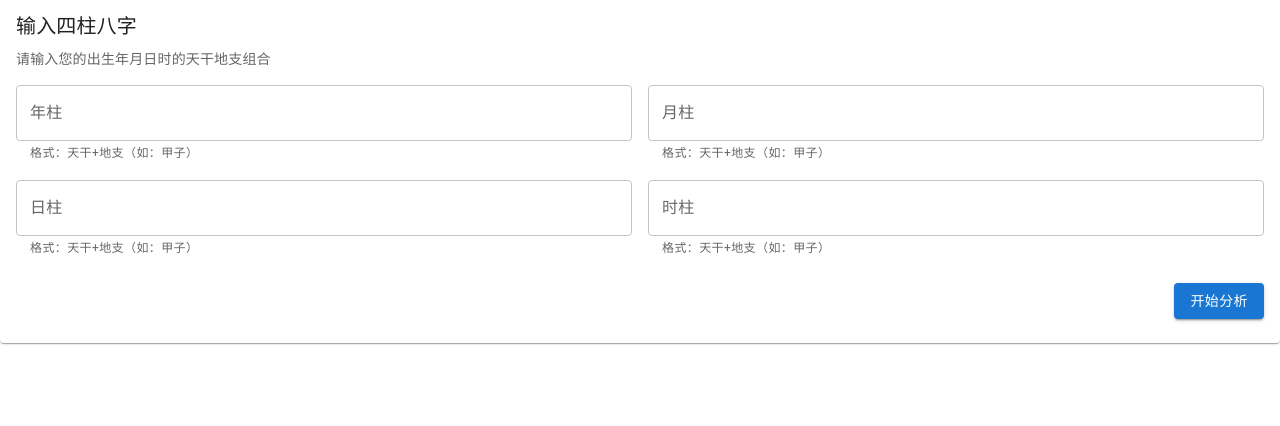
Test: FourPillarsInput › 应该验证输入格式
Type "XX" into the field labelled "年柱" at (324, 113), box x1=16 y1=85 x2=632 y2=141
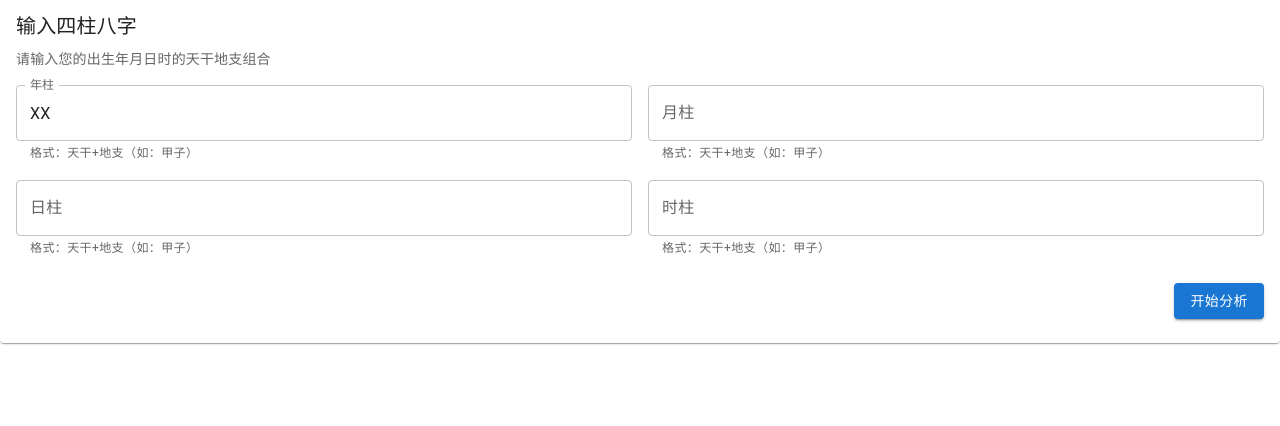
Click the button "开始分析" at (1219, 301), box x1=1174 y1=283 x2=1264 y2=319
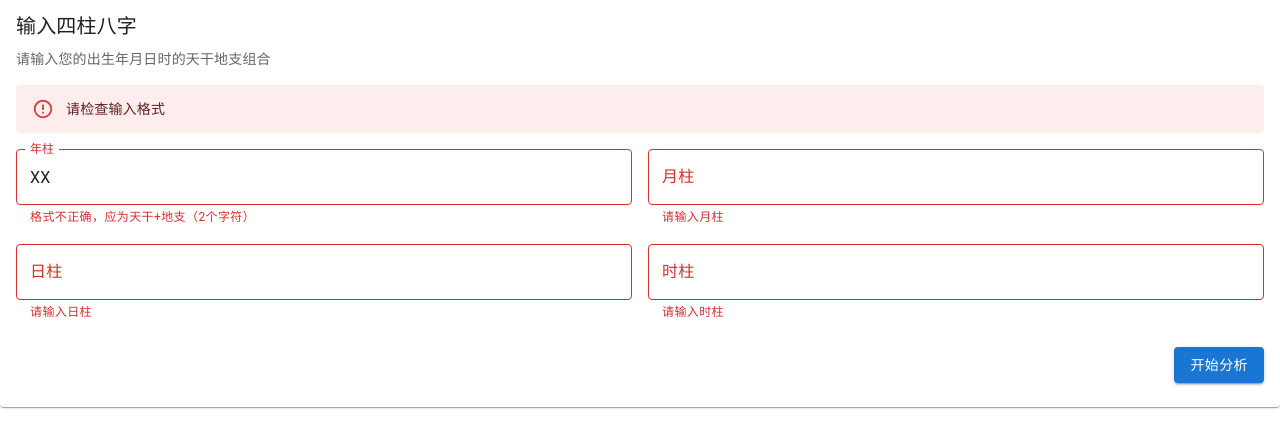
expect the text "格式不正确，应为天干+地支（2个字符）" is shown: met, box x1=30 y1=210 x2=255 y2=224
